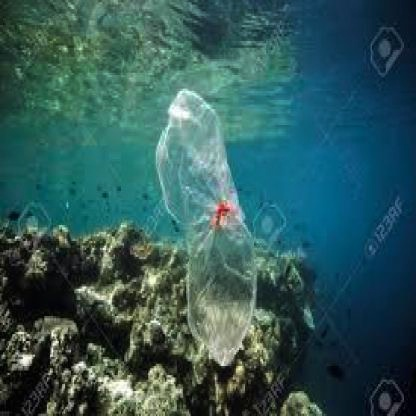pbag: (152, 86, 262, 375)
